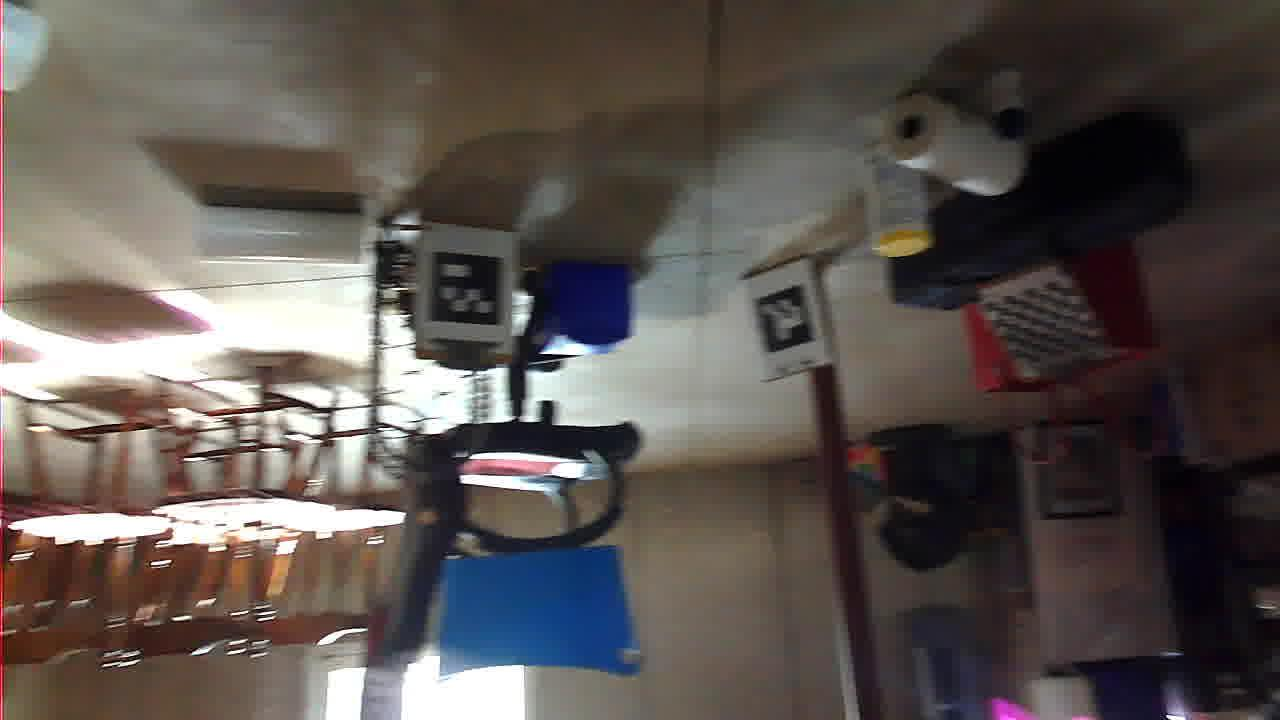coral: (920, 456, 1079, 519), (1235, 629, 1280, 718)
